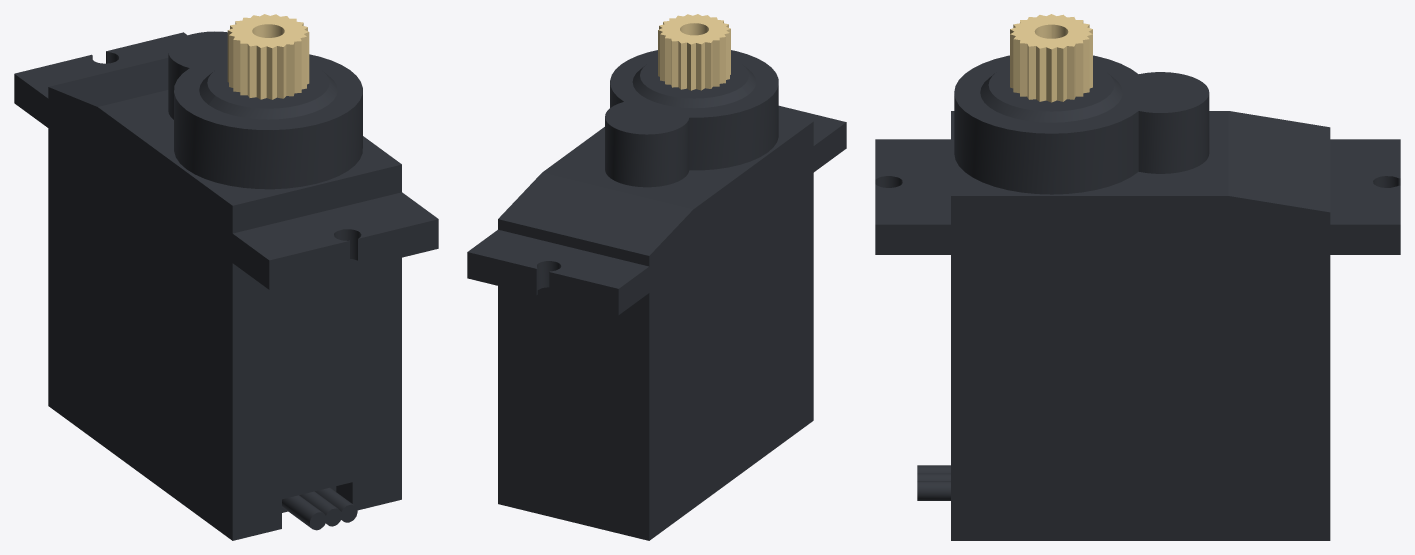
Rendered from micro_servo.glb.
3 views of the same model, side by side, from view 1: azimuth 30°, elevation 25°; view 2: azimuth 150°, elevation 25°; view 3: azimuth 270°, elevation 25° (orthographic). The views are drawn at different scales.
Visible parts, largest first — view 1: servoBody, brass; view 2: servoBody, brass; view 3: servoBody, brass.
Boxes of the visible parts, x1,y1,x2,y2 form: servoBody: (14, 31, 438, 540); brass: (227, 14, 309, 99); servoBody: (467, 50, 846, 540); brass: (658, 14, 730, 90); servoBody: (875, 55, 1400, 540); brass: (1010, 14, 1092, 102).
Bounding box in the file's own units: 1.2 × 3.07 × 3.13.
